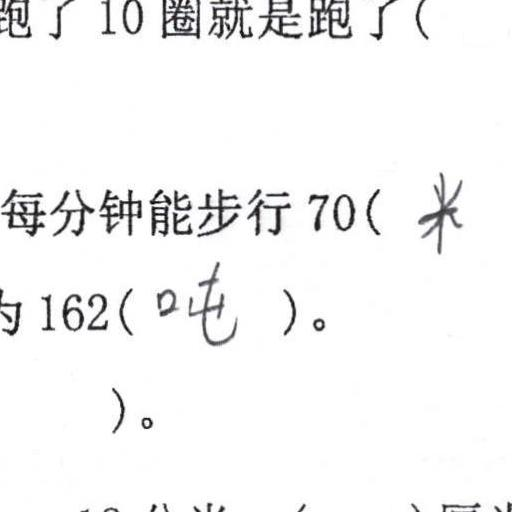ans: (153, 258, 242, 347), (414, 167, 468, 257)
